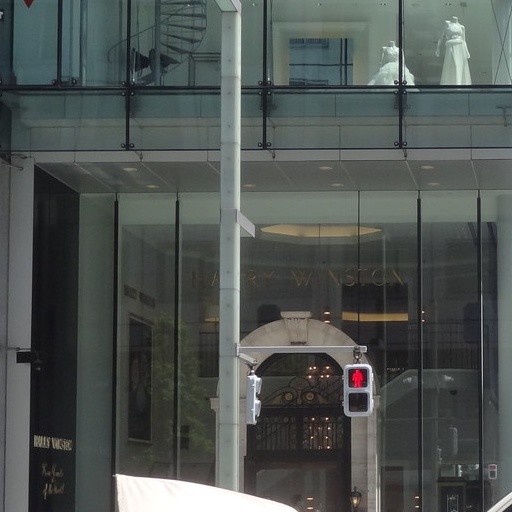Pedestrian_Signal_Red: (338, 354, 374, 420)
